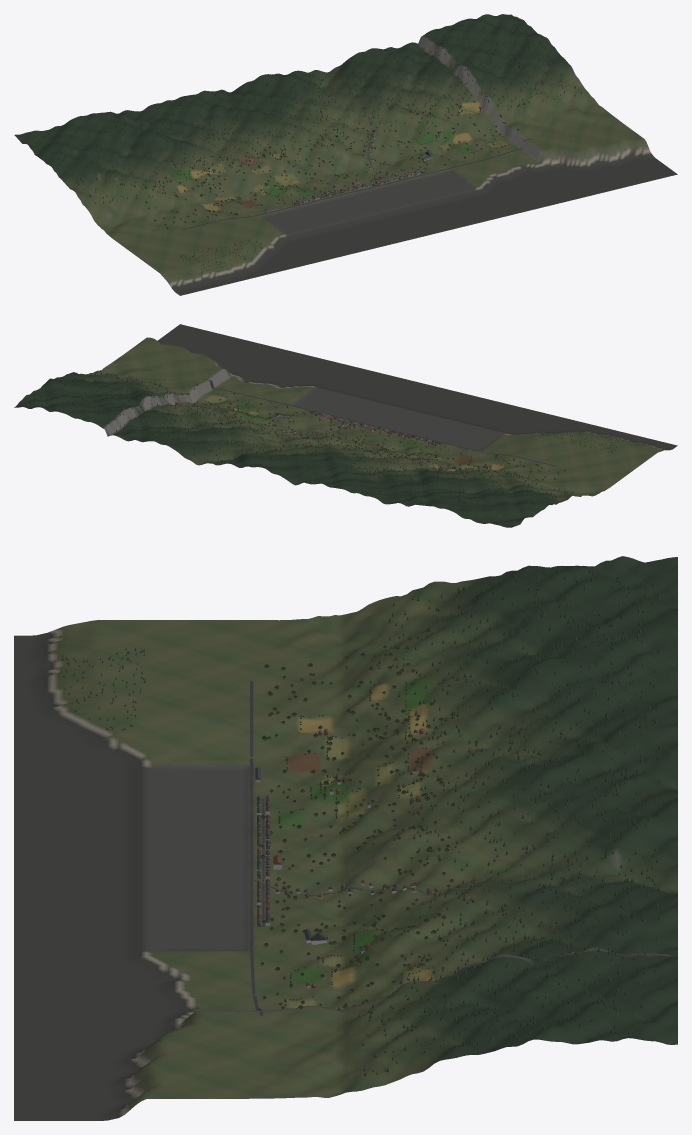
File: port_land.glb
The picture shows the model from 3 angles, top to bottom: view 1: azimuth 30°, elevation 25°; view 2: azimuth 150°, elevation 25°; view 3: azimuth 270°, elevation 25°; orthographic projection. The views are drawn at different scales.
Parts seen in each view (by area): view 1: land, trees, town, roads; view 2: land, trees, town, roads; view 3: land, trees, town, roads.
Part boxes in pixels (left/top/right/bottom): land: left=14, top=14, right=677, bottom=295; trees: left=30, top=22, right=581, bottom=274; town: left=212, top=94, right=482, bottom=211; roads: left=183, top=90, right=530, bottom=229; land: left=14, top=324, right=677, bottom=527; trees: left=34, top=370, right=634, bottom=522; town: left=175, top=402, right=488, bottom=469; roads: left=204, top=379, right=555, bottom=466; land: left=14, top=556, right=677, bottom=1120; trees: left=60, top=567, right=660, bottom=1076; town: left=255, top=728, right=564, bottom=988; roads: left=250, top=680, right=542, bottom=1015.
Bounding box in the file's own units: 3200 × 284 × 1850.
